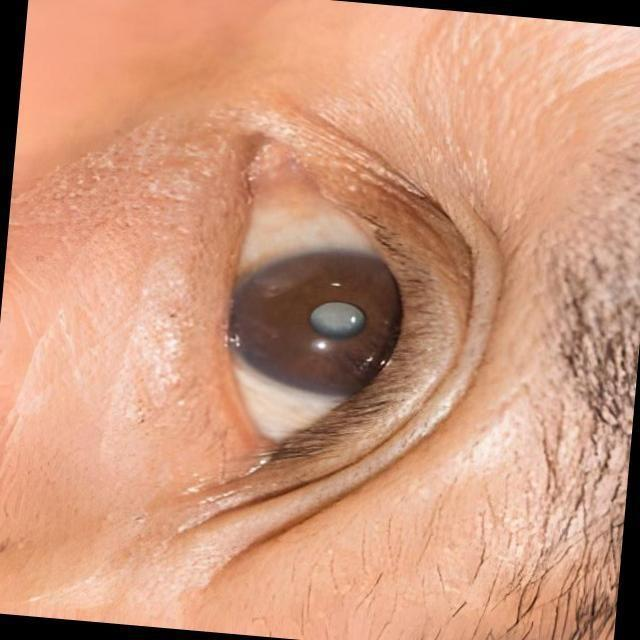Cataract: (217, 228, 433, 412)
